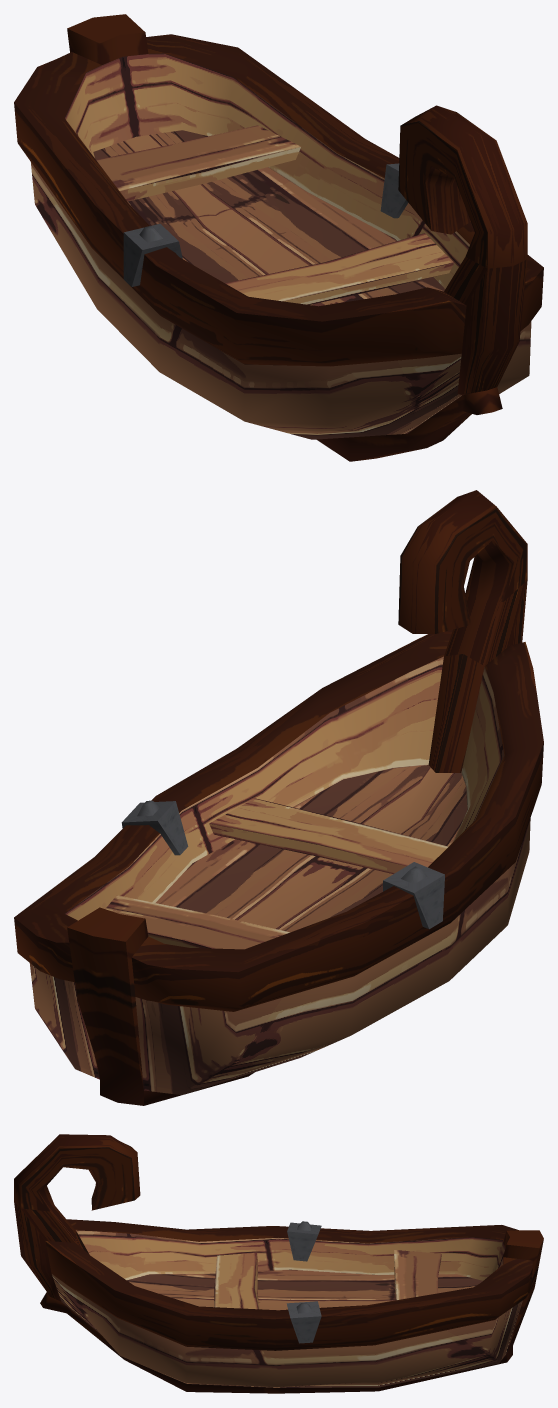
Rendered from SM_PROP_rowboat.fbx.
The picture shows the model from 3 angles, top to bottom: view 1: azimuth 30°, elevation 25°; view 2: azimuth 150°, elevation 25°; view 3: azimuth 270°, elevation 25°; orthographic projection. The views are drawn at different scales.
Parts seen in each view (by area): view 1: SM_PROP_rowboat; view 2: SM_PROP_rowboat; view 3: SM_PROP_rowboat.
Boxes of the visible parts, <box> form: SM_PROP_rowboat: <box>14,14,543,461</box>; SM_PROP_rowboat: <box>14,490,543,1105</box>; SM_PROP_rowboat: <box>14,1134,543,1393</box>.
Size of what is drawn, in the model's own units: 173 by 213 by 406.
